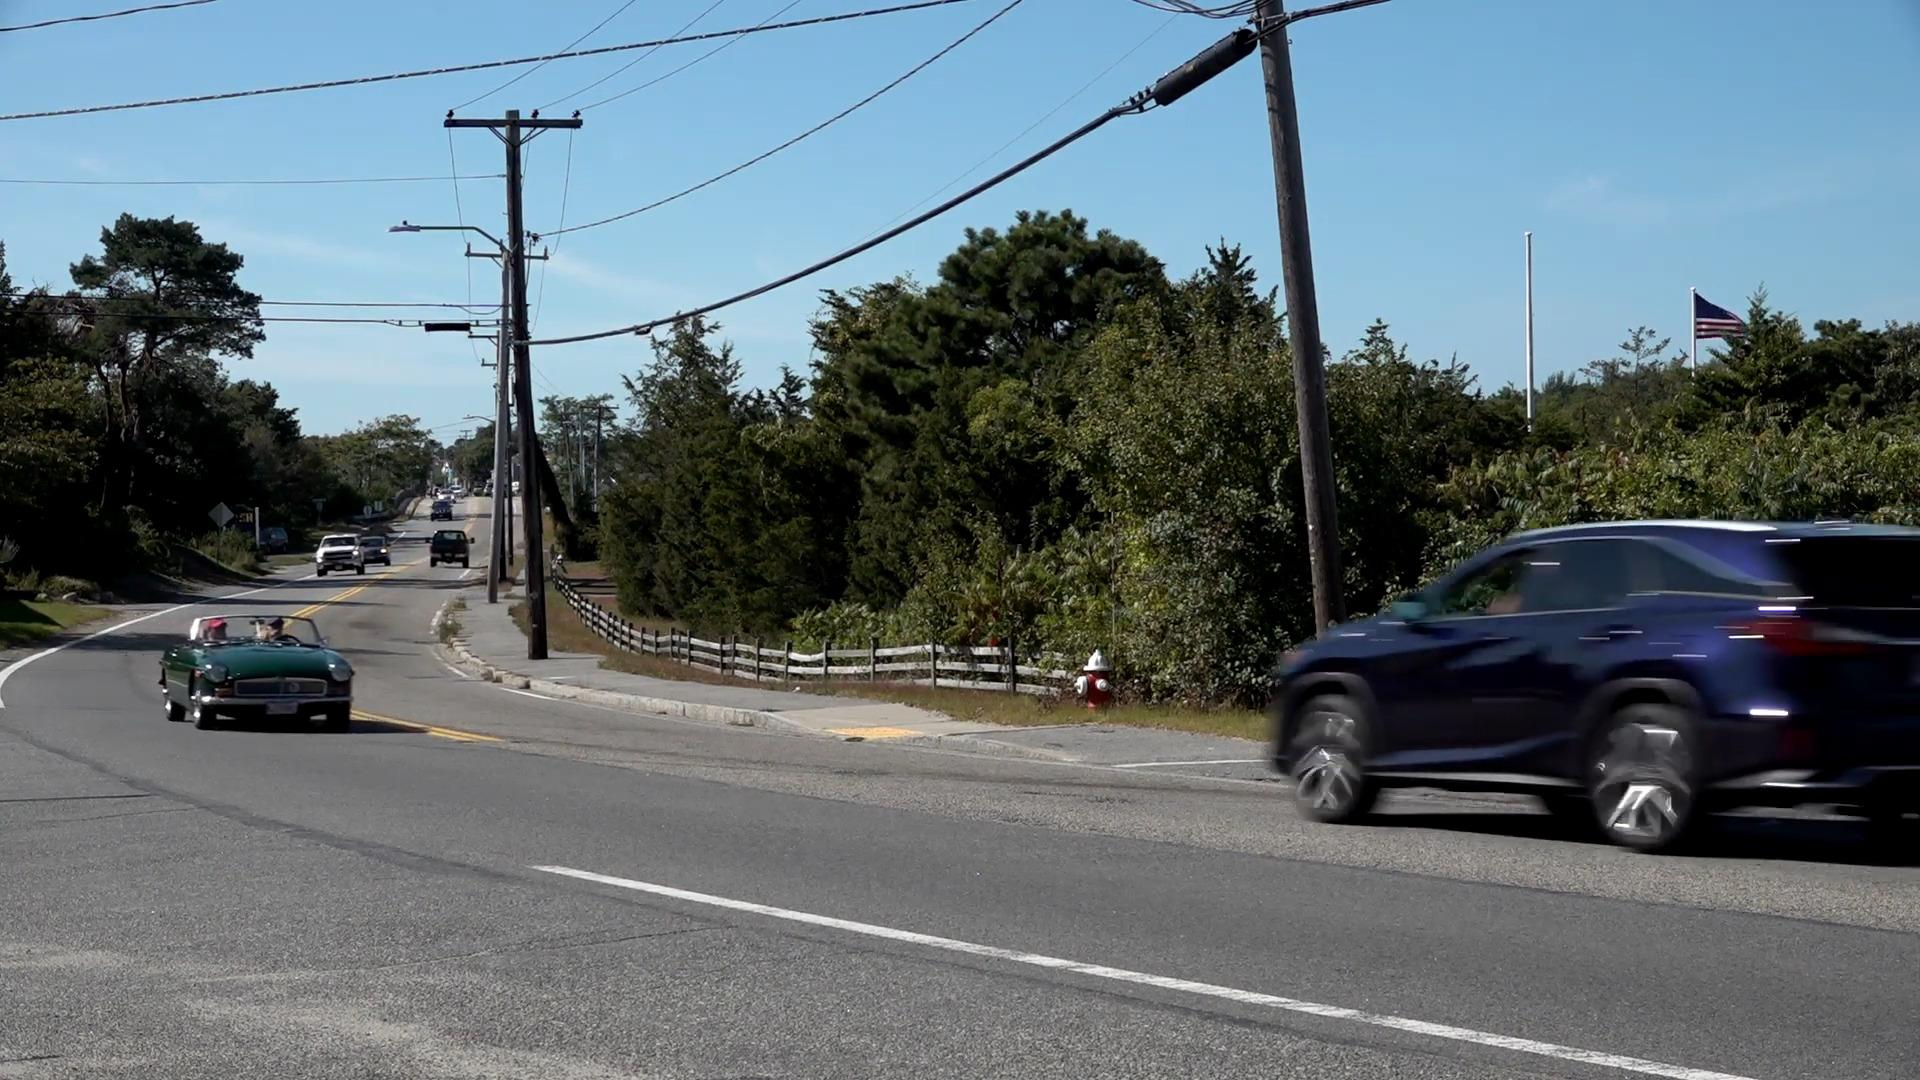pickup: (313, 534, 367, 579)
sedans: (161, 612, 355, 731)
suv: (1265, 521, 1917, 840)
